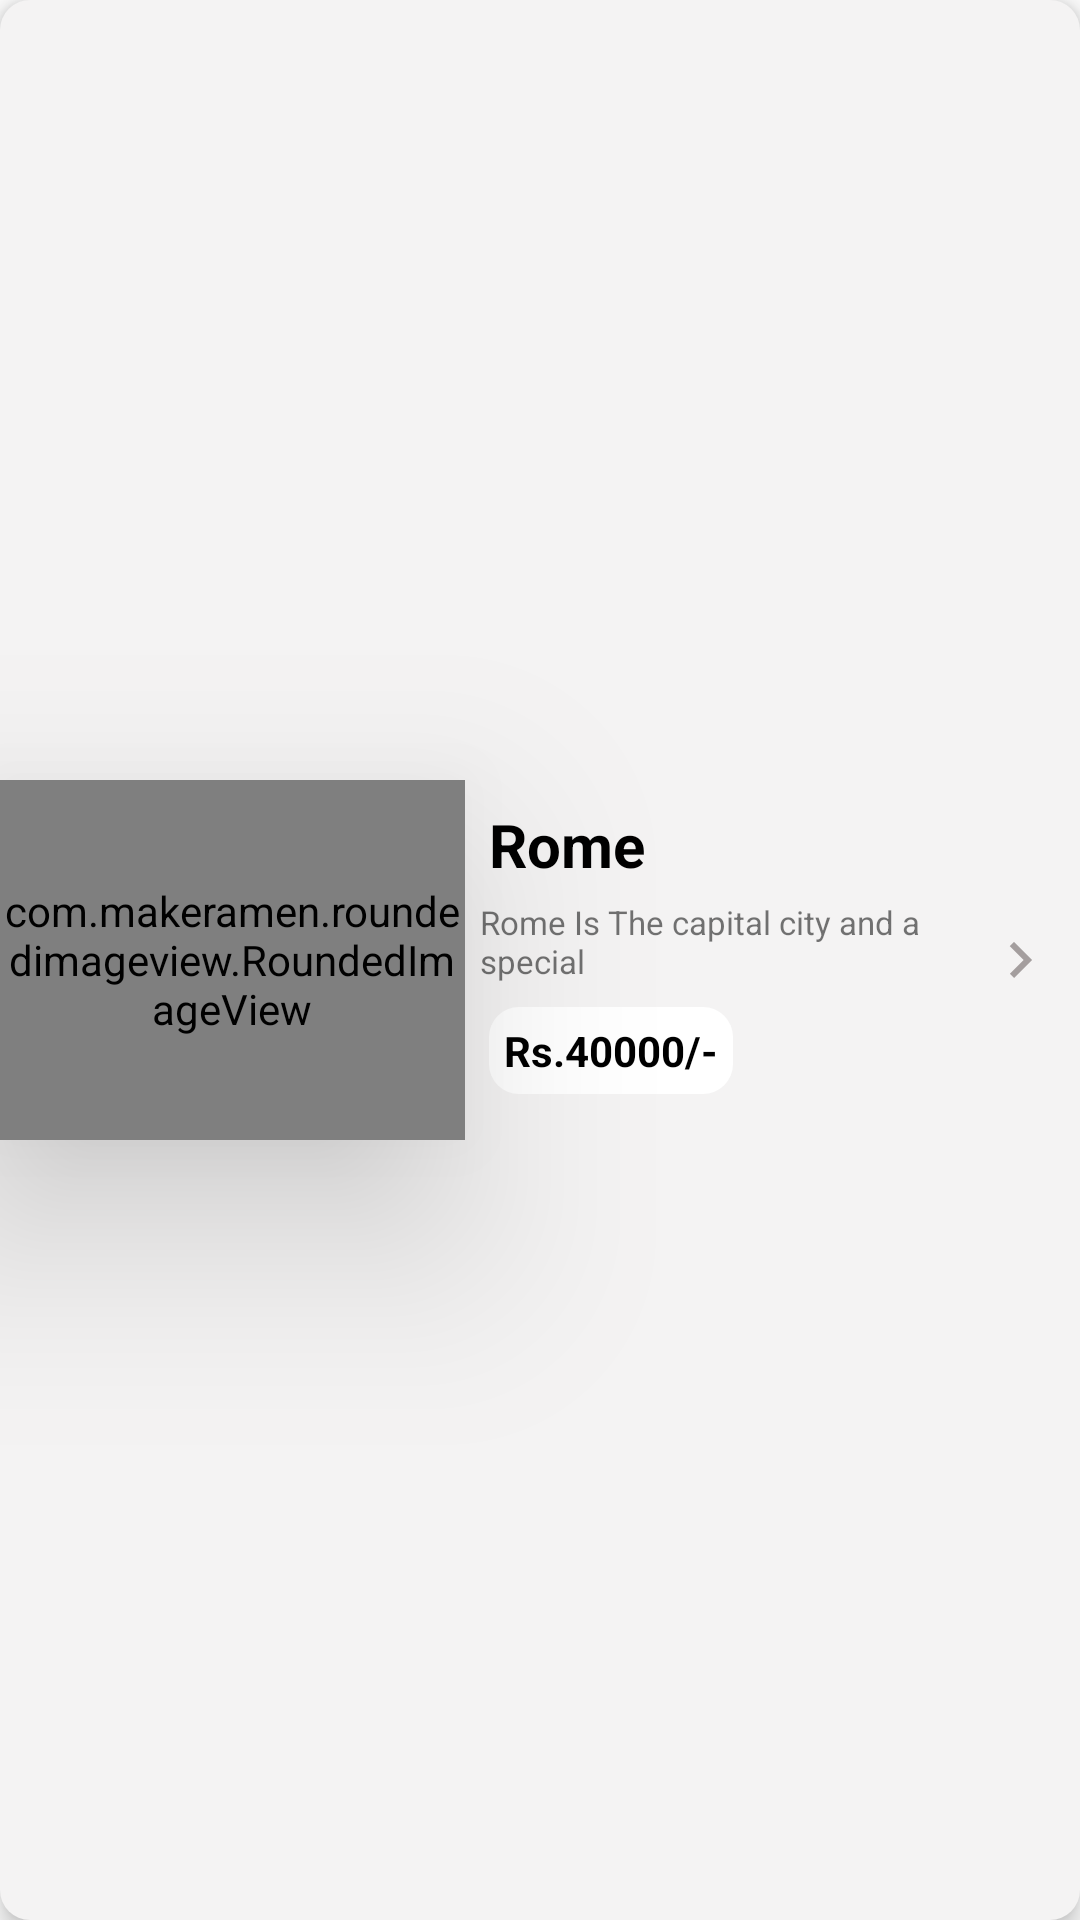

Named icons in this screenshot (1080*1920) and their bounding boxes, (x1,y1,x2,y2):
greater: (1010,942,1032,978)
